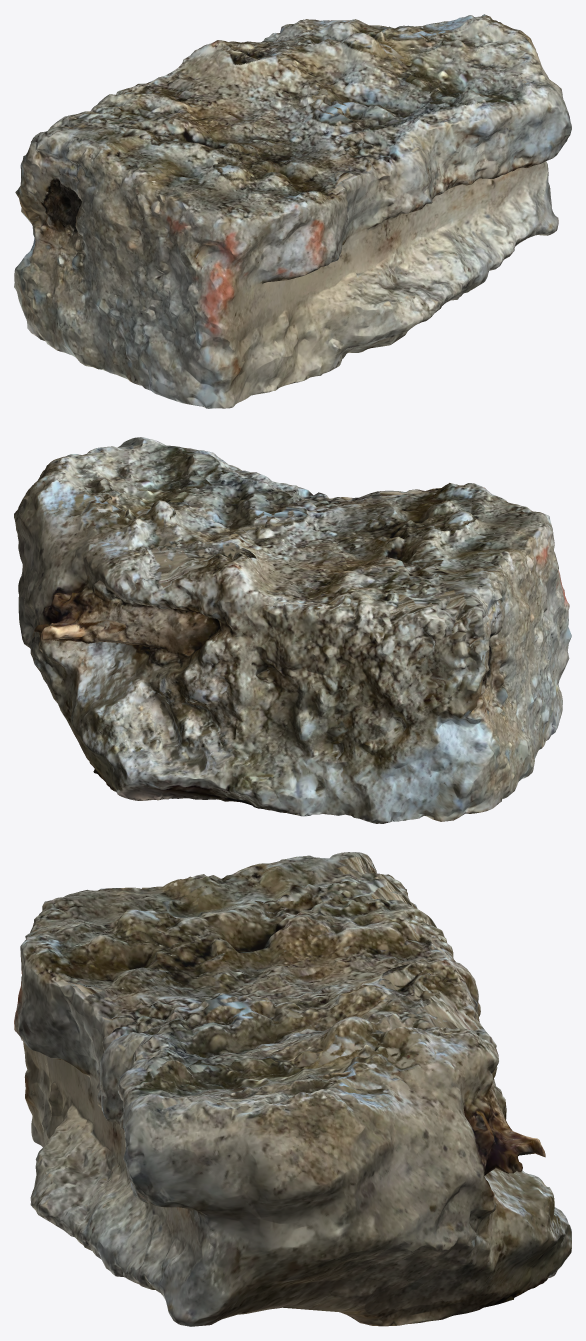
The model's file is FRAG-S1-FS-004.glb.
The picture shows the model from 3 angles, top to bottom: view 1: azimuth 30°, elevation 25°; view 2: azimuth 150°, elevation 25°; view 3: azimuth 270°, elevation 25°; orthographic projection. The views are drawn at different scales.
Parts seen in each view (by area): view 1: FRAG-S1-FS-004; view 2: FRAG-S1-FS-004; view 3: FRAG-S1-FS-004.
Part boxes in pixels (bbox=[...]): FRAG-S1-FS-004: bbox=[14, 14, 571, 408]; FRAG-S1-FS-004: bbox=[14, 437, 571, 823]; FRAG-S1-FS-004: bbox=[14, 852, 571, 1326].
Bounding box in the file's own units: 1.42 × 0.6131 × 1.09.
Materials: 1 (1 with a texture image).
